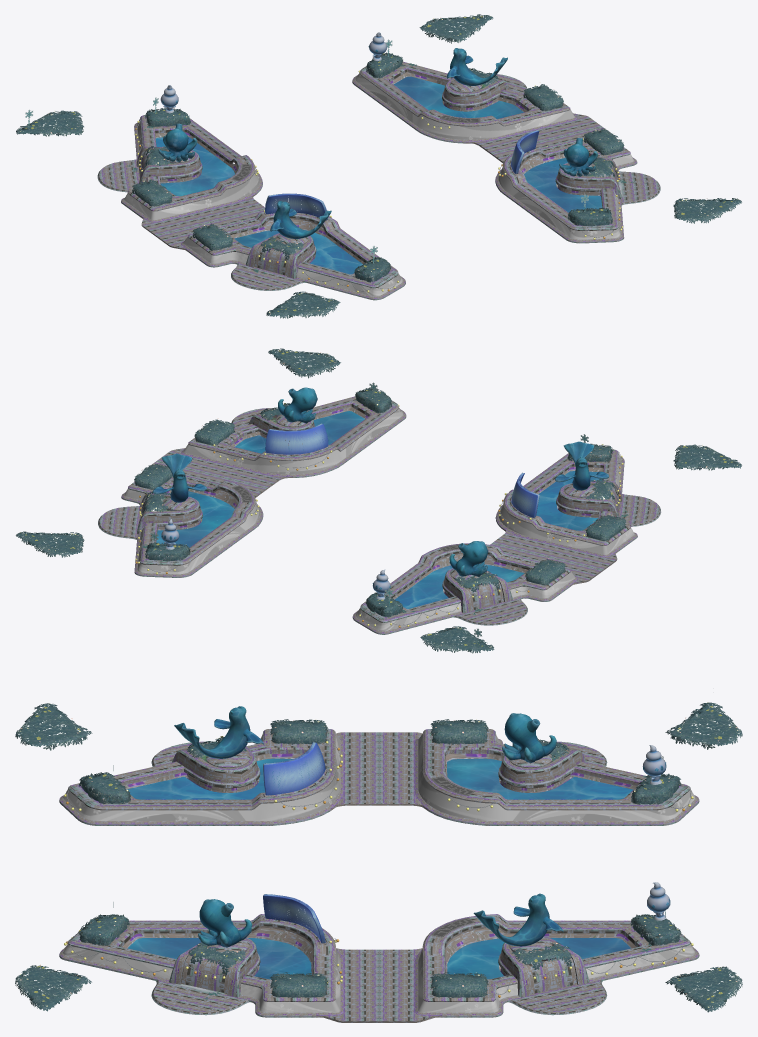
The model's file is pref_Area_Winter_Boss_Small_beta_01_lv3.fbx.
3 renders of one model, top to bottom at view 1: azimuth 30°, elevation 25°; view 2: azimuth 150°, elevation 25°; view 3: azimuth 270°, elevation 25°, orthographic. The views are drawn at different scales.
Parts seen in each view (by area): view 1: sm_beach_winter_techobstacle03_a_lv3 (×2), sm_beach_winter_techobstacle03_f_lv3 (×2), pref_sm_beach_ice_lv3, pref_sm_beach_winter_techvegetation01_lv3 (×4), pref_sm_beach_winter_techvegetation05_lv3 (×2), pref_sm_beach_winter_techvegetation05_mirror_lv3 (×2), sm_beach_winter_techobstacle03_b_lv3 (×2), sm_beach_winter_techobstacle03_d_lv3 (×2), pref_sm_beach_winter_techvegetation02_lv3 (×2), pref_sm_beach_winter_techvegetation02_mirror_lv3 (×2), pref_sm_beach_winter_dewgong_lv3, pref_sm_beach_winter_dewgong_lv3 (1) (+2 smaller); view 2: sm_beach_winter_techobstacle03_a_lv3 (×2), sm_beach_winter_techobstacle03_f_lv3 (×2), pref_sm_beach_ice_lv3, pref_sm_beach_winter_techvegetation01_lv3 (×4), pref_sm_beach_winter_techvegetation05_mirror_lv3 (×2), pref_sm_beach_winter_techvegetation05_lv3 (×2), sm_beach_winter_techobstacle03_d_lv3 (×2), sm_beach_winter_techobstacle03_b_lv3 (×2), pref_sm_beach_winter_techvegetation02_lv3 (×2), pref_sm_beach_winter_dewgong_lv3, pref_sm_beach_winter_dewgong_lv3 (1), pref_sm_beach_winter_octillery_lv3 (+3 smaller); view 3: sm_beach_winter_techobstacle03_a_lv3 (×2), sm_beach_winter_techobstacle03_f_lv3 (×2), pref_sm_beach_ice_lv3, pref_sm_beach_winter_techvegetation01_lv3 (×4), sm_beach_winter_techobstacle03_b_lv3 (×2), pref_sm_beach_winter_techvegetation05_lv3 (×2), pref_sm_beach_winter_techvegetation05_mirror_lv3 (×2), sm_beach_winter_techobstacle03_d_lv3 (×2), pref_sm_beach_winter_techvegetation02_mirror_lv3 (×2), pref_sm_beach_winter_techvegetation02_lv3 (×2), pref_sm_beach_winter_dewgong_lv3 (1), pref_sm_beach_winter_dewgong_lv3 (+7 smaller).
Part boxes in pixels (<box>): sm_beach_winter_techobstacle03_a_lv3 (×2): <box>97,61,660,300</box>; sm_beach_winter_techobstacle03_f_lv3 (×2): <box>124,73,633,296</box>; pref_sm_beach_ice_lv3: <box>155,76,602,274</box>; pref_sm_beach_winter_techvegetation01_lv3 (×4): <box>132,84,624,250</box>; pref_sm_beach_winter_techvegetation05_lv3 (×2): <box>266,14,493,318</box>; pref_sm_beach_winter_techvegetation05_mirror_lv3 (×2): <box>16,110,741,223</box>; sm_beach_winter_techobstacle03_b_lv3 (×2): <box>155,72,600,264</box>; sm_beach_winter_techobstacle03_d_lv3 (×2): <box>265,130,539,220</box>; pref_sm_beach_winter_techvegetation02_lv3 (×2): <box>145,108,612,226</box>; pref_sm_beach_winter_techvegetation02_mirror_lv3 (×2): <box>354,52,402,282</box>; pref_sm_beach_winter_dewgong_lv3: <box>270,201,331,238</box>; pref_sm_beach_winter_dewgong_lv3 (1): <box>446,48,507,85</box>; sm_beach_winter_techobstacle03_a_lv3 (×2): <box>98,396,661,634</box>; sm_beach_winter_techobstacle03_f_lv3 (×2): <box>124,407,634,630</box>; pref_sm_beach_ice_lv3: <box>156,411,601,608</box>; pref_sm_beach_winter_techvegetation01_lv3 (×4): <box>134,419,626,585</box>; pref_sm_beach_winter_techvegetation05_mirror_lv3 (×2): <box>268,348,494,653</box>; pref_sm_beach_winter_techvegetation05_lv3 (×2): <box>16,444,741,557</box>; sm_beach_winter_techobstacle03_d_lv3 (×2): <box>265,423,539,517</box>; sm_beach_winter_techobstacle03_b_lv3 (×2): <box>157,407,603,599</box>; pref_sm_beach_winter_techvegetation02_lv3 (×2): <box>355,388,403,617</box>; pref_sm_beach_winter_dewgong_lv3: <box>555,441,608,490</box>; pref_sm_beach_winter_dewgong_lv3 (1): <box>153,453,206,502</box>; pref_sm_beach_winter_octillery_lv3: <box>449,541,488,576</box>; sm_beach_winter_techobstacle03_a_lv3 (×2): <box>59,729,699,1022</box>; sm_beach_winter_techobstacle03_f_lv3 (×2): <box>63,733,695,1012</box>; pref_sm_beach_ice_lv3: <box>126,758,632,979</box>; pref_sm_beach_winter_techvegetation01_lv3 (×4): <box>270,719,488,997</box>; sm_beach_winter_techobstacle03_b_lv3 (×2): <box>122,753,636,975</box>; pref_sm_beach_winter_techvegetation05_lv3 (×2): <box>15,703,742,1012</box>; pref_sm_beach_winter_techvegetation05_mirror_lv3 (×2): <box>15,702,742,1011</box>; sm_beach_winter_techobstacle03_d_lv3 (×2): <box>263,742,325,943</box>; pref_sm_beach_winter_techvegetation02_mirror_lv3 (×2): <box>79,772,681,945</box>; pref_sm_beach_winter_techvegetation02_lv3 (×2): <box>78,773,681,945</box>; pref_sm_beach_winter_dewgong_lv3 (1): <box>473,893,563,946</box>; pref_sm_beach_winter_dewgong_lv3: <box>174,706,263,758</box>.
Bounding box in the file's own units: 51.37 × 7.3 × 51.07.
